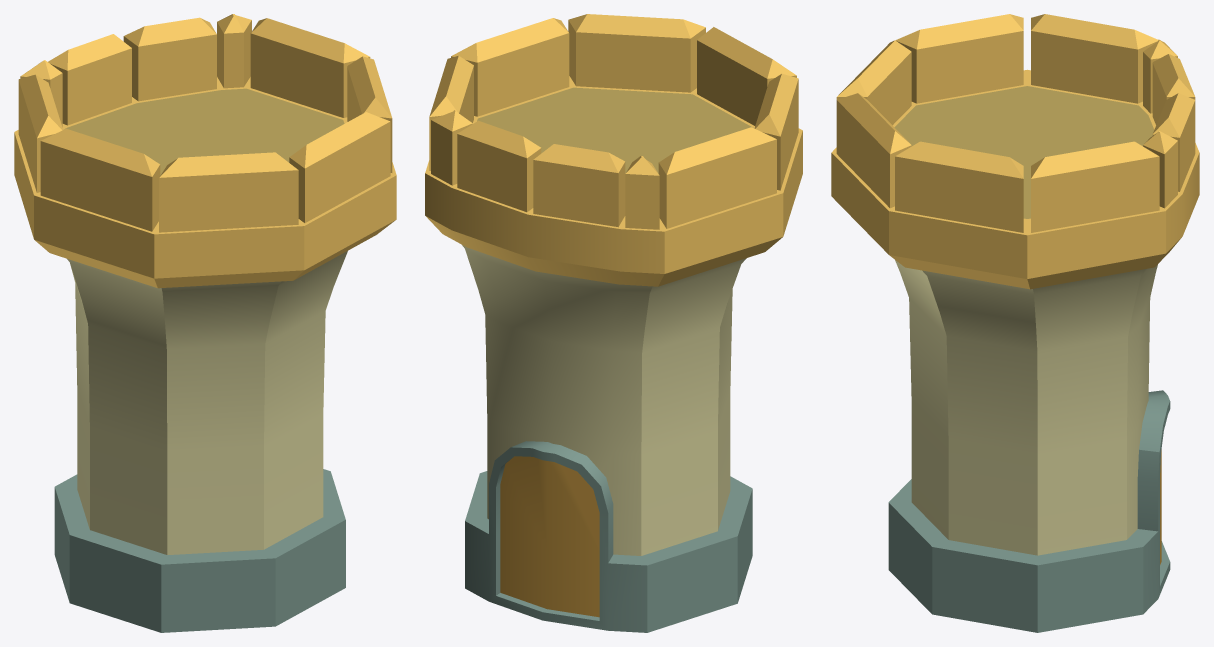
The model's file is tower.glb.
The picture shows the model from 3 angles, left to right: view 1: azimuth 30°, elevation 25°; view 2: azimuth 150°, elevation 25°; view 3: azimuth 270°, elevation 25°; orthographic projection.
Parts seen in each view (by area): view 1: Plane; view 2: Plane; view 3: Plane.
Part boxes in pixels (box(x1,y1,x2,y2)): Plane: box(14, 14, 396, 632); Plane: box(425, 14, 802, 632); Plane: box(831, 14, 1199, 632).
Size of the model in its own units: 2.63 by 3.58 by 2.47.
